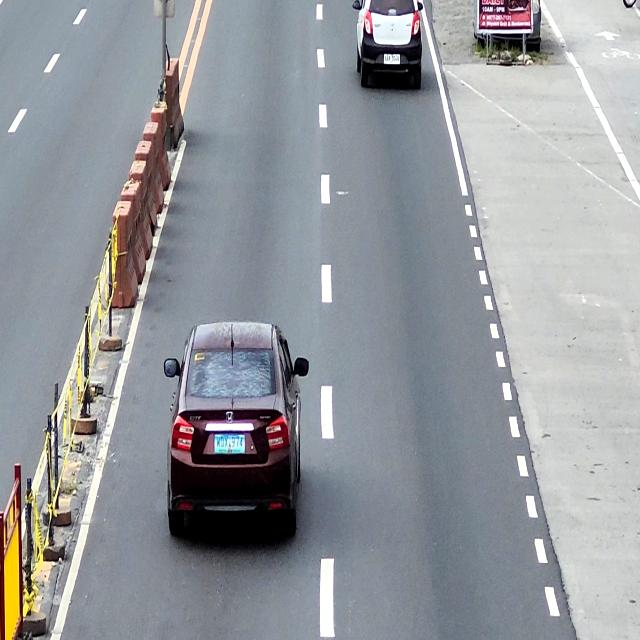Car: (163, 320, 309, 543), (352, 0, 424, 90)
License-Plate: (214, 433, 245, 455), (383, 53, 401, 65)
